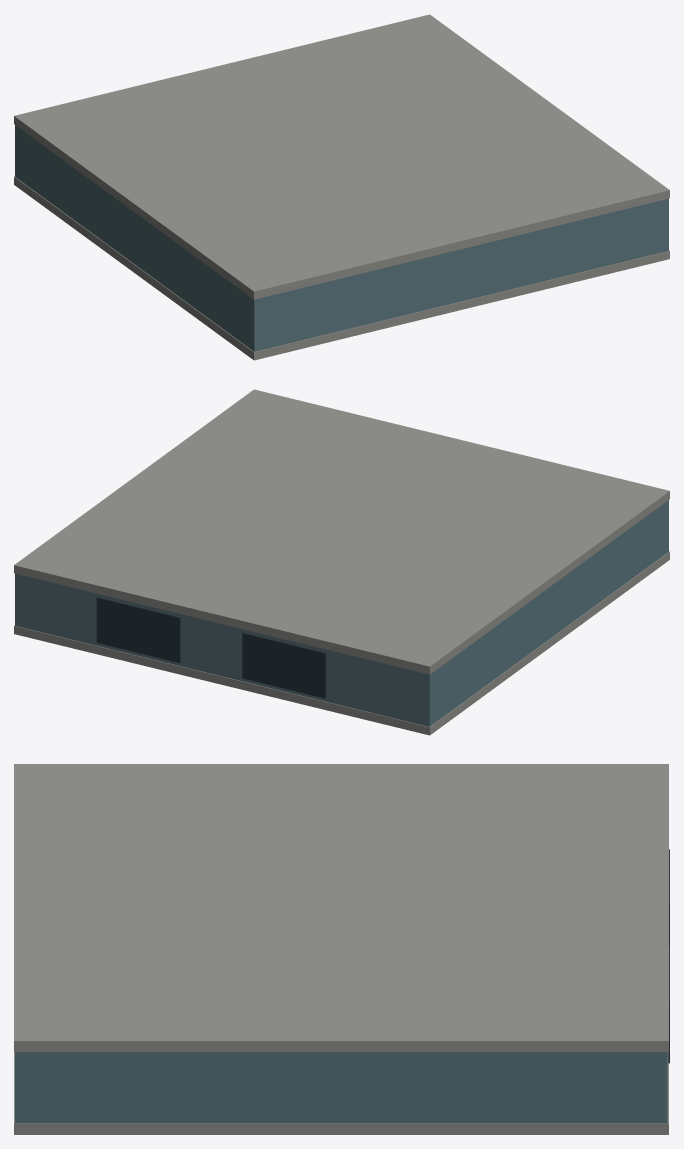
The model's file is tw_glass_24_floor_b_lod1.glb.
3 views of the same model, one above another, from view 1: azimuth 30°, elevation 25°; view 2: azimuth 150°, elevation 25°; view 3: azimuth 270°, elevation 25° (orthographic). The views are drawn at different scales.
Visible parts, largest first — view 1: tw_glass_24_floor_b_lod1; view 2: tw_glass_24_floor_b_lod1; view 3: tw_glass_24_floor_b_lod1.
Part boxes in pixels (x1,y1,x2,y2): tw_glass_24_floor_b_lod1: (14,14,669,360); tw_glass_24_floor_b_lod1: (14,389,669,735); tw_glass_24_floor_b_lod1: (14,764,669,1134).
Size of the model in its own units: 24 by 3.8 by 24.04.
2 materials, 2 textured.
